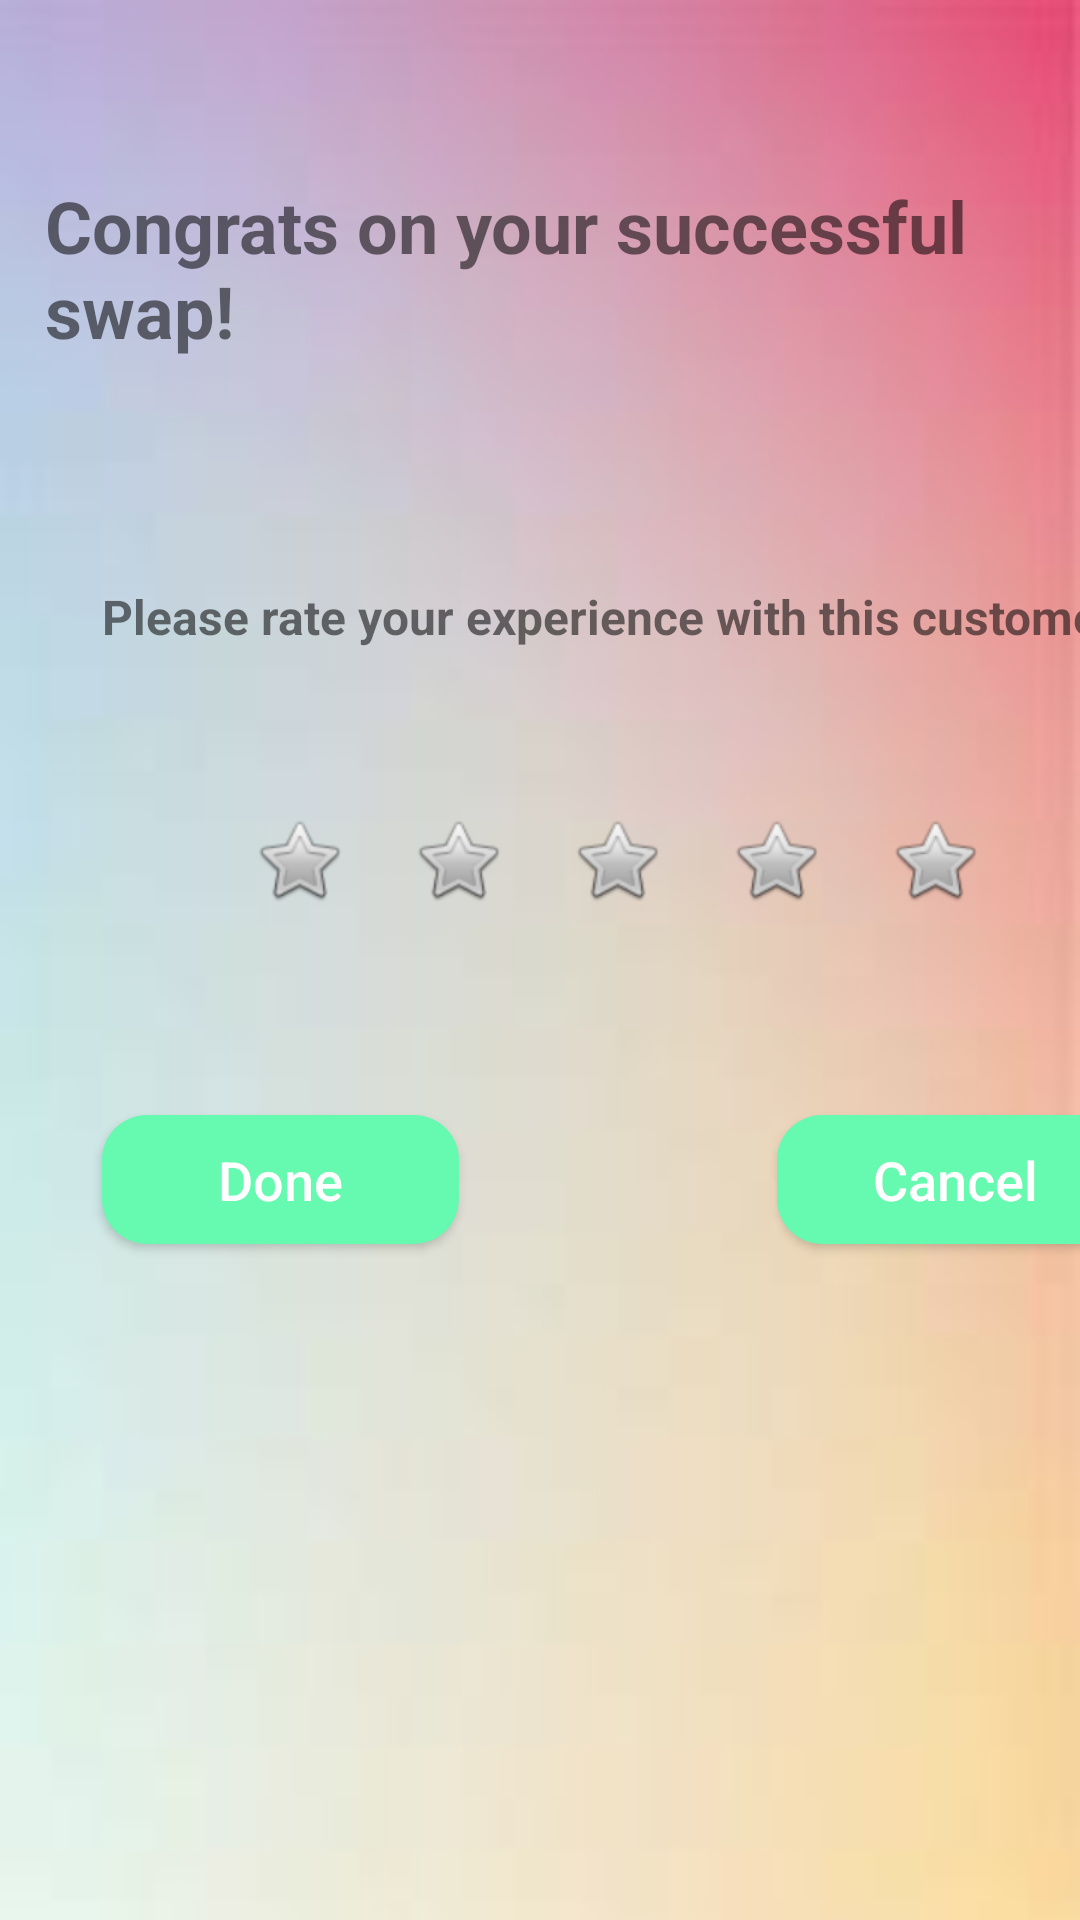

Icon click points for this 1080w x 1920h phone screenshot, format (x=x, y=y):
star: (x=300, y=861), (x=459, y=861), (x=618, y=861), (x=777, y=861), (x=936, y=861)
